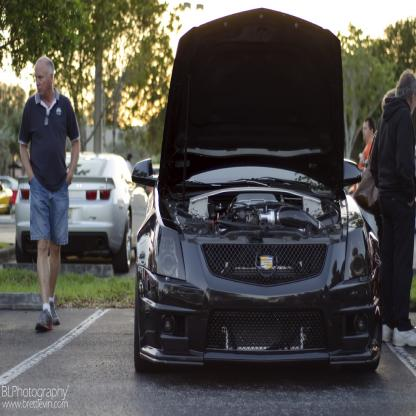Car: (123, 36, 380, 387), (17, 148, 139, 271), (1, 186, 17, 217)
